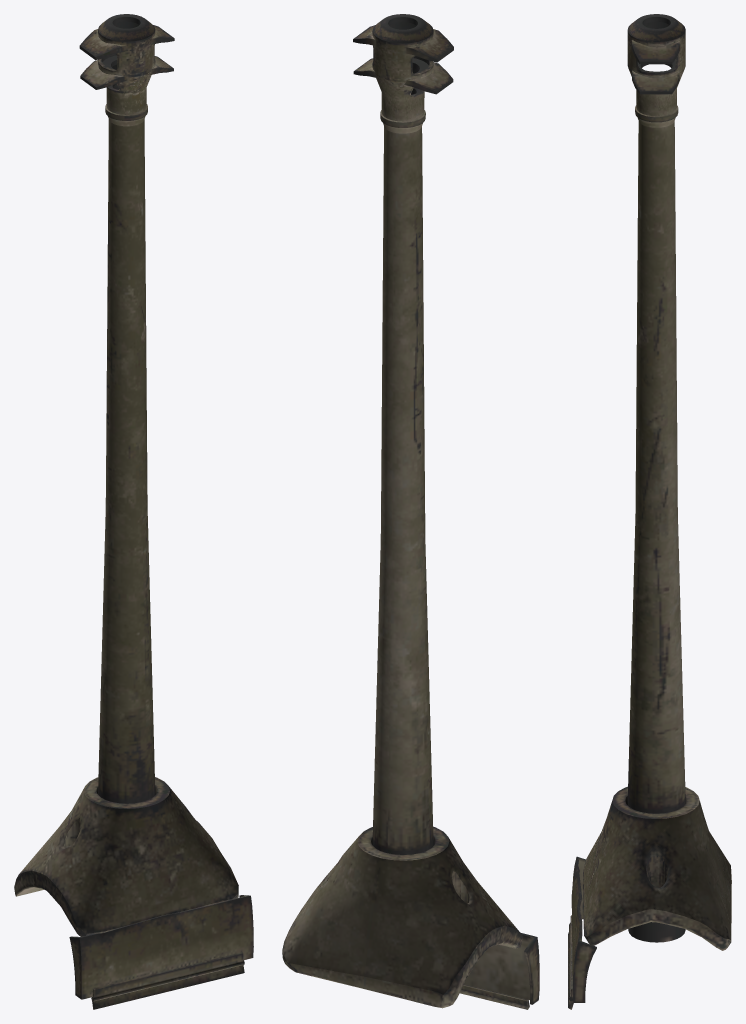
File: Gun_05.glb
3 renders of one model, left to right at view 1: azimuth 30°, elevation 25°; view 2: azimuth 150°, elevation 25°; view 3: azimuth 270°, elevation 25°, orthographic. The views are drawn at different scales.
Visible parts, largest first — view 1: set_0_group_0; view 2: set_0_group_0; view 3: set_0_group_0.
Part boxes in pixels (x1=…): set_0_group_0: x1=14, y1=14, x2=253, y2=1009; set_0_group_0: x1=282, y1=14, x2=539, y2=1009; set_0_group_0: x1=568, y1=14, x2=731, y2=1009.
Size of the model in its own units: 0.9472 by 4.93 by 0.7695.
1 material, 1 textured.
